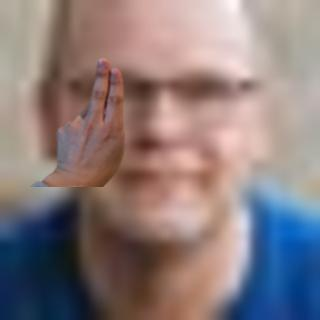DHAVE: (47, 55, 130, 182)
